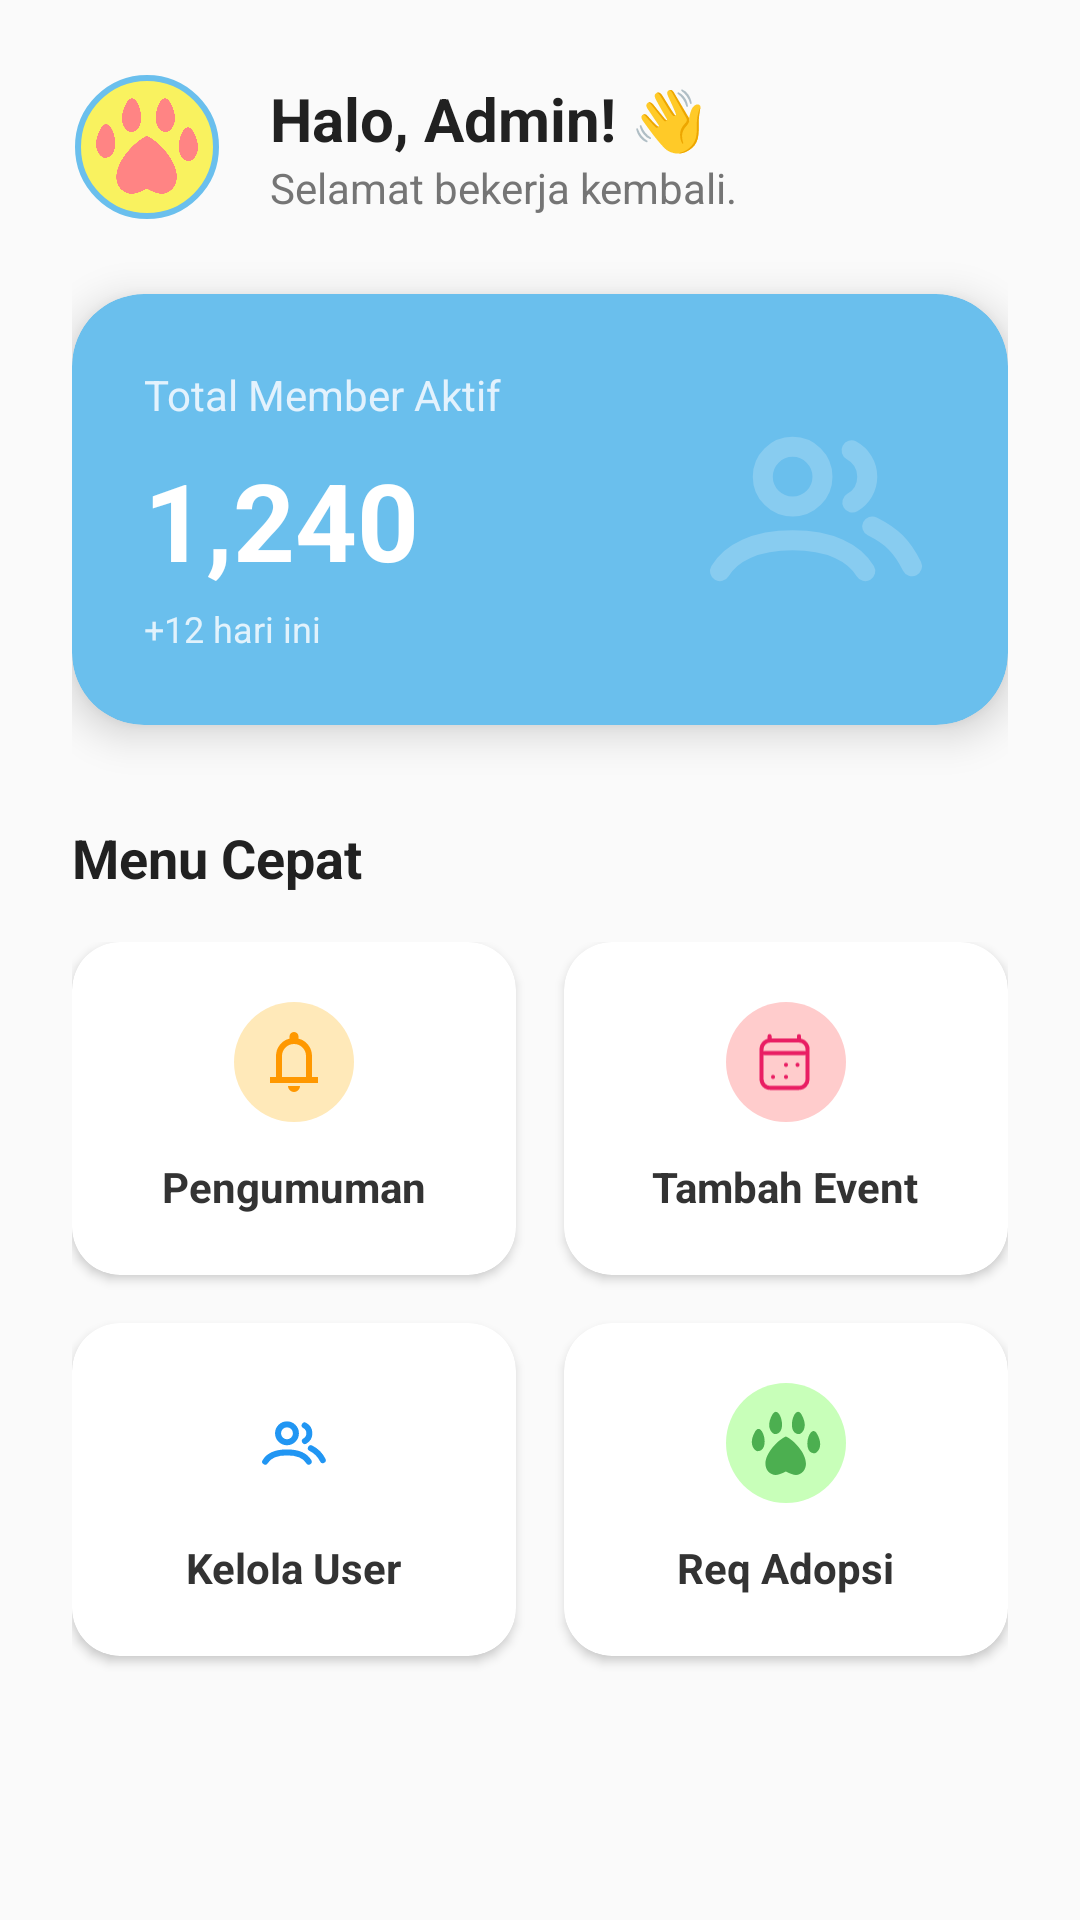

Screen size 1080 x 1920. Icon name, then its box in pixels as {"left": x1, "top": y1, "right": x2, "bottom": y2}:
calendar: {"left": 726, "top": 1002, "right": 846, "bottom": 1122}
notification: {"left": 234, "top": 1002, "right": 354, "bottom": 1122}
paw: {"left": 726, "top": 1383, "right": 846, "bottom": 1503}
people: {"left": 710, "top": 437, "right": 922, "bottom": 581}, {"left": 262, "top": 1421, "right": 326, "bottom": 1465}
